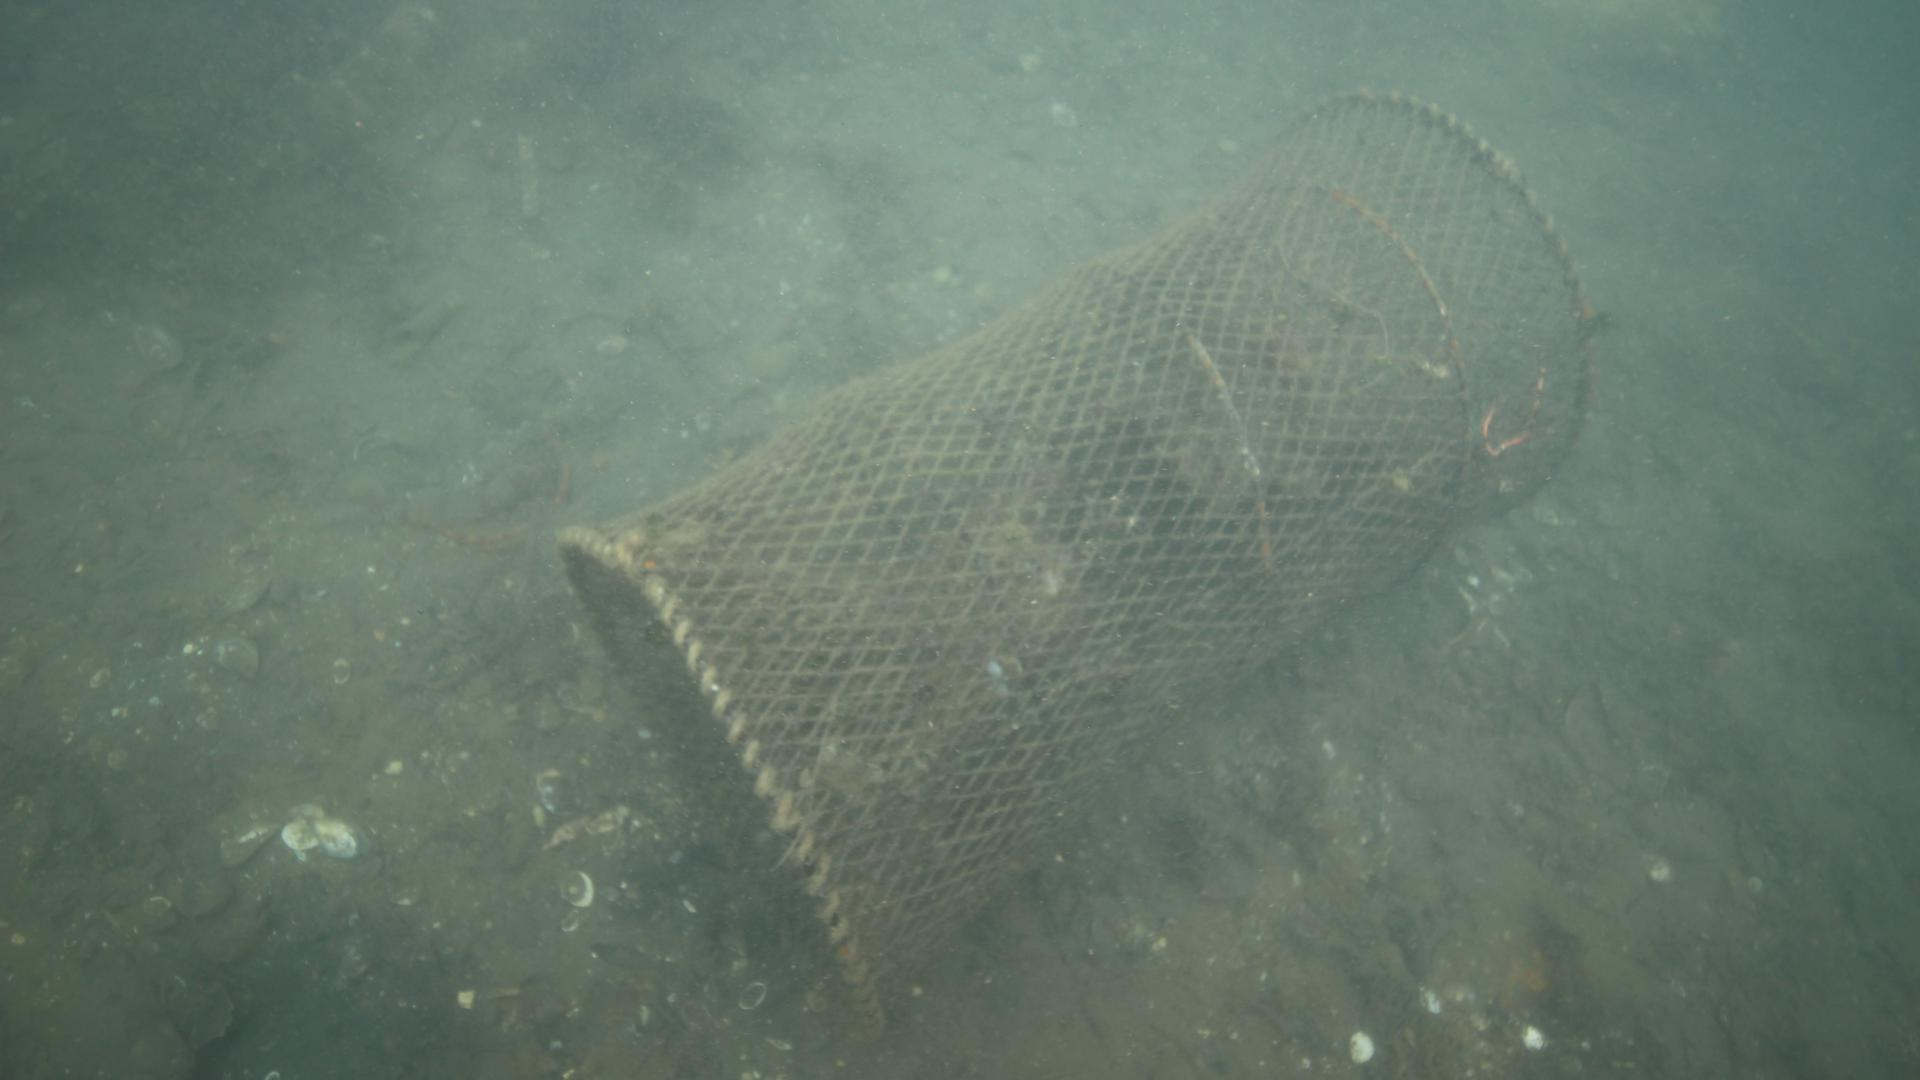spring fish trap: (554, 87, 1593, 1038)
